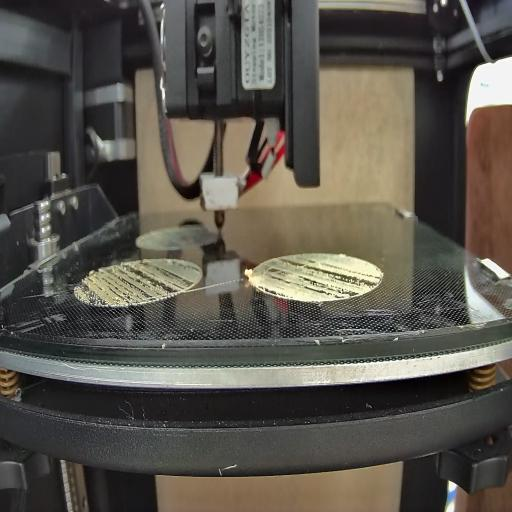under_extrusion: (75, 260, 194, 307), (259, 257, 381, 298)
